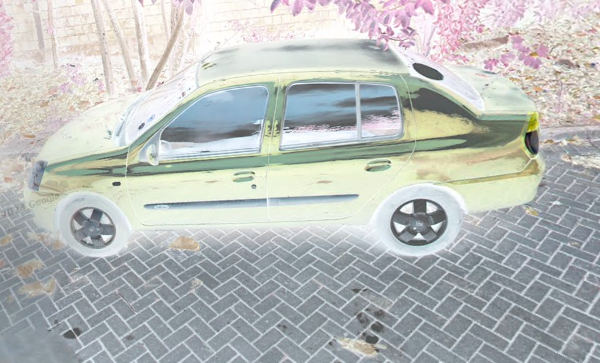car: (24, 35, 546, 262)
